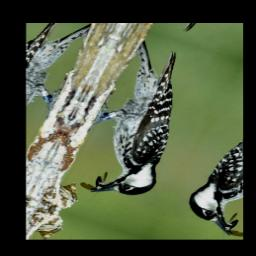Woodpecker: (65, 38, 222, 208)
